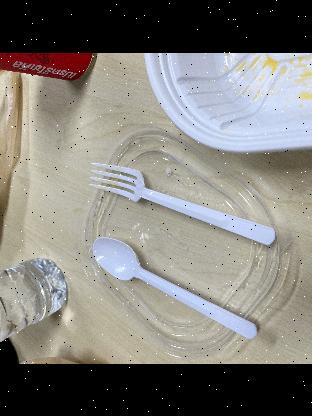Others: (90, 231, 260, 333), (90, 157, 276, 243)
